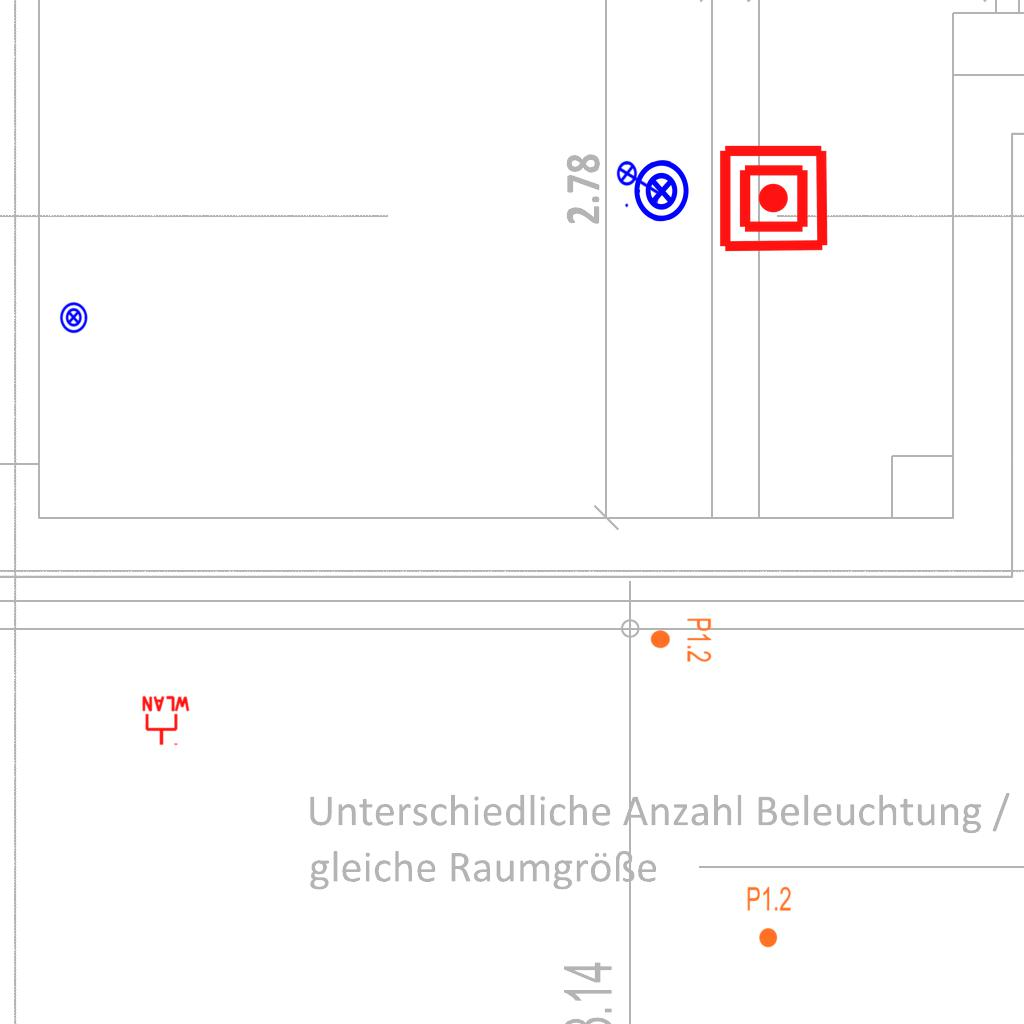Ausschalter_beleuchtet: (616, 154, 664, 210)
Downlight_LED_Einbauleuchten_Flur: (649, 617, 713, 663), (746, 885, 792, 949)
NAM-Nichtautomatischer_Melder: (717, 142, 830, 255)
Taster_beleuchtet: (628, 157, 696, 225), (57, 301, 90, 334)
WLAN: (140, 695, 192, 747)
